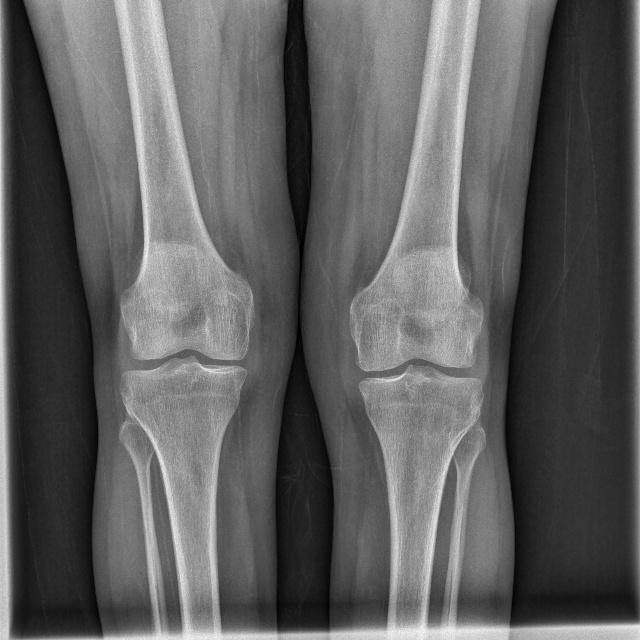Knee: (114, 303, 252, 415), (346, 316, 484, 420)
